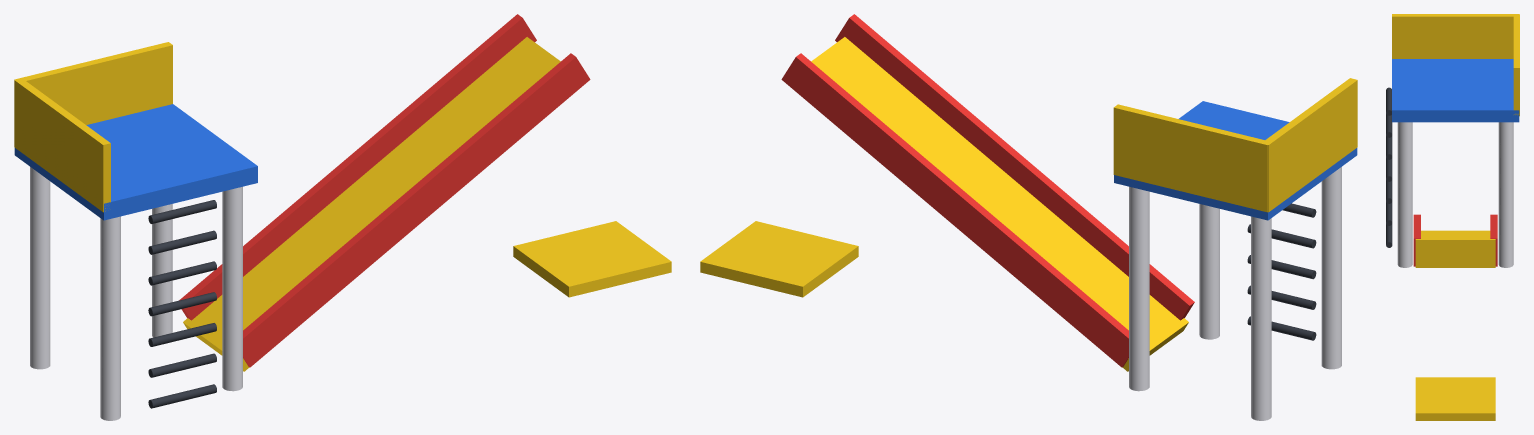
Rendered from playground_slide.glb.
3 renders of one model, left to right at view 1: azimuth 30°, elevation 25°; view 2: azimuth 150°, elevation 25°; view 3: azimuth 270°, elevation 25°, orthographic. The views are drawn at different scales.
Parts seen in each view (by area): view 1: SlideBed, SlideLipR, Deck, SlideLipL, RailBack, SlideRunout, RailLeft, _MeshInstance3D_11, _MeshInstance3D_13, Stilt, _MeshInstance3D_12, _MeshInstance3D_17 (+6 smaller); view 2: SlideBed, SlideLipL, RailBack, SlideLipR, SlideRunout, RailLeft, Deck, Stilt, _MeshInstance3D_12, _MeshInstance3D_11, _MeshInstance3D_13; view 3: Deck, RailLeft, SlideRunout, SlideBed, _MeshInstance3D_12, _MeshInstance3D_13, RailBack, SlideLipL, SlideLipR, _MeshInstance3D_22, _MeshInstance3D_18, _MeshInstance3D_19 (+4 smaller).
Boxes of the visible parts, x1,y1,x2,y2 form: SlideBed: (183, 37, 560, 371); SlideLipR: (243, 53, 590, 367); Deck: (14, 104, 257, 220); SlideLipL: (179, 14, 536, 320); RailBack: (14, 42, 172, 124); SlideRunout: (513, 221, 671, 297); RailLeft: (14, 80, 110, 212); _MeshInstance3D_11: (100, 216, 120, 420); _MeshInstance3D_13: (222, 186, 242, 391); Stilt: (30, 167, 50, 369); _MeshInstance3D_12: (152, 204, 172, 337); _MeshInstance3D_17: (148, 353, 216, 377); SlideBed: (811, 37, 1188, 371); SlideLipL: (781, 53, 1128, 367); RailBack: (1113, 104, 1271, 212); SlideLipR: (835, 14, 1194, 320); SlideRunout: (700, 221, 858, 297); RailLeft: (1262, 78, 1357, 212); Deck: (1114, 101, 1357, 220); Stilt: (1251, 216, 1271, 420); _MeshInstance3D_12: (1129, 186, 1149, 391); _MeshInstance3D_11: (1321, 167, 1341, 369); _MeshInstance3D_13: (1199, 204, 1219, 339); Deck: (1392, 59, 1519, 122); RailLeft: (1392, 14, 1518, 58); SlideRunout: (1415, 377, 1495, 420); SlideBed: (1415, 230, 1495, 267); _MeshInstance3D_12: (1498, 122, 1513, 267); _MeshInstance3D_13: (1397, 122, 1412, 267); RailBack: (1513, 14, 1519, 116); SlideLipL: (1490, 214, 1497, 266); SlideLipR: (1413, 214, 1420, 266); _MeshInstance3D_22: (1386, 87, 1391, 115); _MeshInstance3D_18: (1386, 180, 1392, 203); _MeshInstance3D_19: (1386, 158, 1392, 181).
Size of the model in its own units: 9.11 by 4.2 by 2.52.
